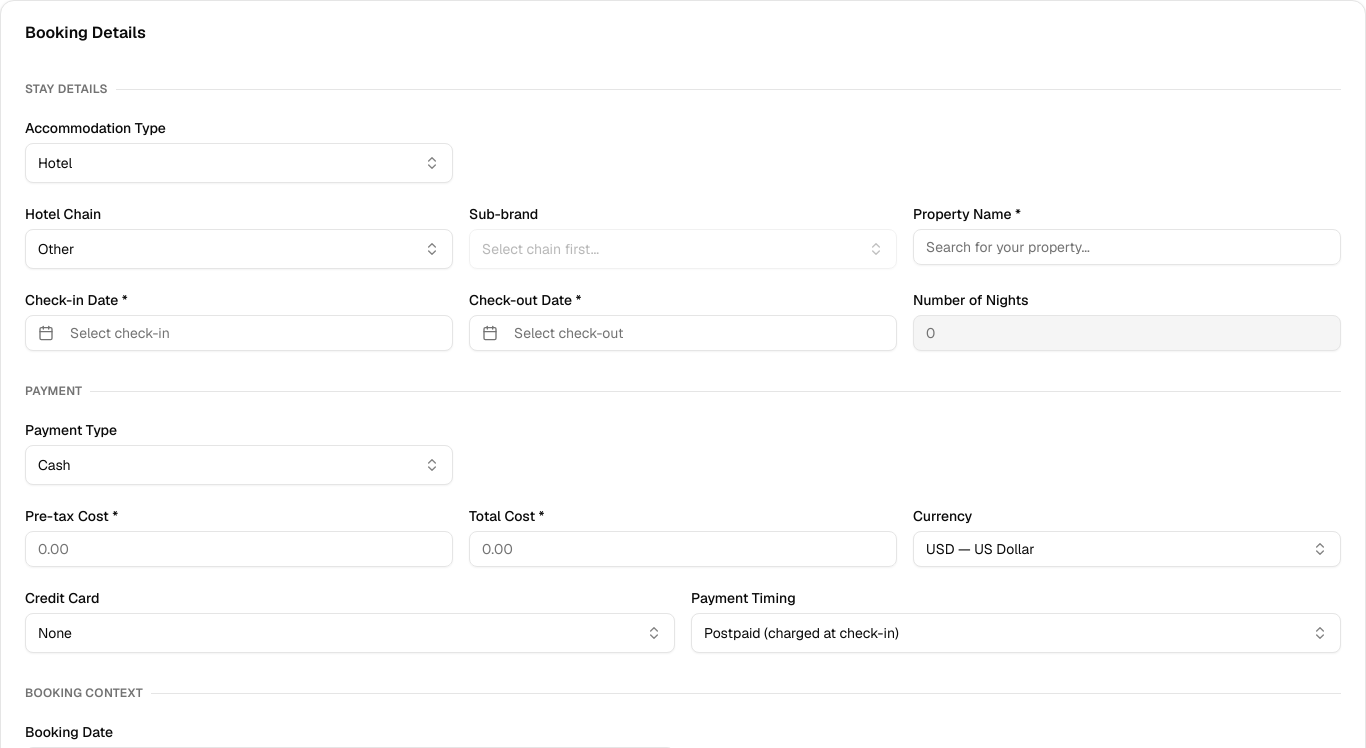
Test: BookingForm › hotel chain dropdown includes 'Other' option
This screenshot has width=1366, height=748.
Click the dropdown with test id "hotel-chain-select". click: (56, 249)
box: [25,229,453,269]
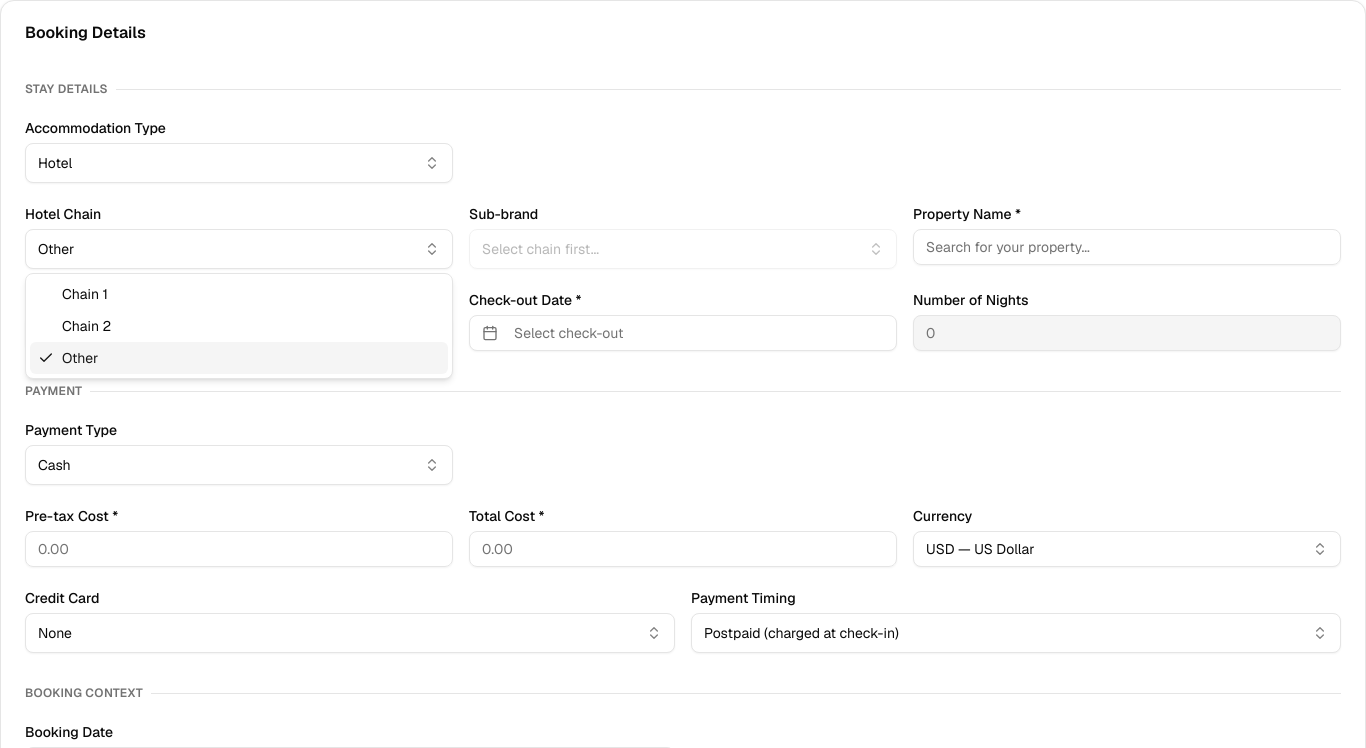
Result: the option "Other" is shown at [30,342,448,374]
